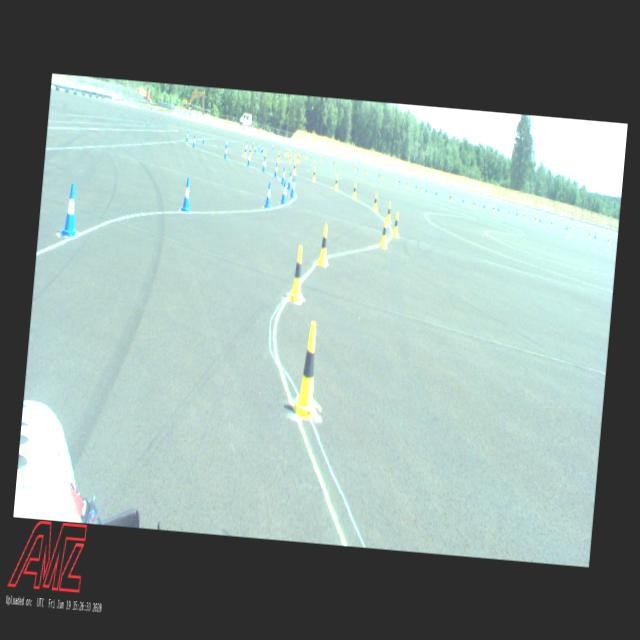blue_cone: (61, 183, 80, 236), (180, 176, 192, 212), (264, 181, 272, 208), (280, 181, 288, 204), (289, 176, 296, 198), (286, 171, 292, 190), (280, 166, 286, 184), (246, 153, 251, 167), (274, 162, 278, 178), (262, 157, 266, 172), (224, 144, 228, 158), (192, 135, 196, 148), (202, 133, 205, 144), (225, 138, 228, 148), (245, 142, 248, 152), (186, 131, 188, 142), (482, 200, 484, 208), (474, 198, 476, 206), (254, 144, 256, 152), (258, 142, 260, 150), (260, 145, 262, 153), (262, 144, 264, 152), (565, 222, 567, 229), (538, 215, 540, 222), (516, 208, 518, 215), (497, 203, 499, 210), (462, 195, 464, 202), (449, 191, 451, 198), (435, 187, 437, 194), (426, 185, 428, 192), (398, 176, 400, 183), (378, 170, 380, 177), (356, 163, 358, 170), (332, 158, 334, 165), (310, 151, 312, 158), (272, 143, 274, 150), (252, 140, 254, 147), (260, 141, 262, 148), (594, 232, 596, 238), (415, 182, 417, 188), (290, 147, 290, 153)
yellow_cone: (292, 321, 324, 416), (288, 245, 306, 303), (316, 223, 331, 264), (378, 218, 388, 248), (392, 211, 399, 236), (384, 202, 392, 222), (372, 192, 378, 210), (352, 181, 356, 198), (334, 174, 338, 190), (292, 160, 296, 173), (312, 168, 316, 180), (243, 146, 247, 158), (262, 152, 266, 164), (248, 146, 252, 157), (288, 154, 292, 164), (277, 151, 280, 162), (606, 237, 610, 244), (507, 208, 510, 216), (472, 200, 475, 208), (297, 154, 300, 162), (420, 185, 423, 192), (296, 152, 298, 162), (450, 192, 452, 201), (588, 230, 590, 238), (568, 224, 570, 232), (522, 212, 524, 220), (492, 204, 494, 212), (406, 180, 408, 188), (334, 158, 336, 166), (318, 154, 320, 162), (294, 148, 296, 156), (284, 148, 286, 156), (550, 220, 552, 227), (534, 215, 536, 222), (395, 176, 397, 183), (381, 172, 383, 179), (366, 167, 368, 174), (354, 164, 356, 171), (306, 151, 308, 158), (286, 148, 288, 155), (289, 150, 291, 157)
